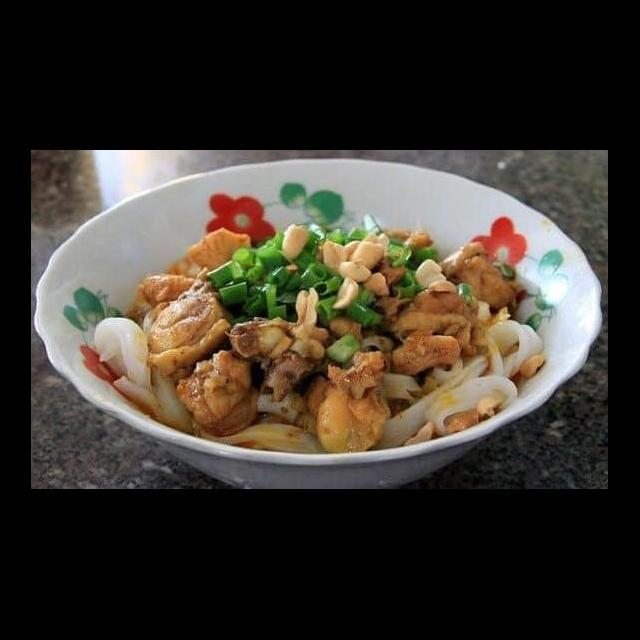mi: (372, 298, 548, 452), (90, 309, 194, 436), (188, 388, 328, 458)
